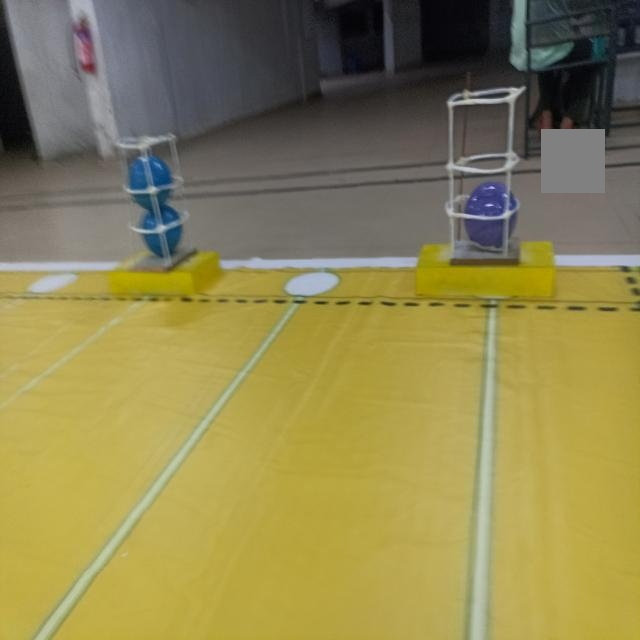blue_ball: (445, 85, 524, 267), (129, 153, 171, 204), (141, 202, 180, 254)
purple_ball: (466, 179, 516, 243)
silo: (115, 131, 194, 272)
